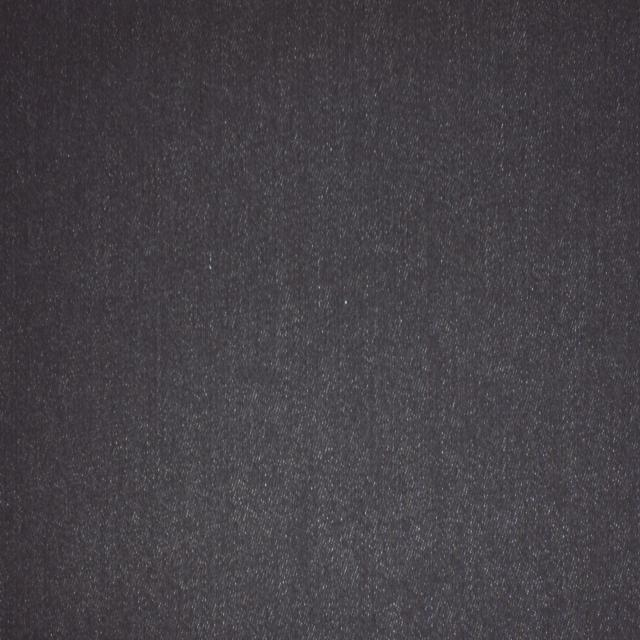Knot: (208, 251, 213, 270), (344, 300, 348, 304)
